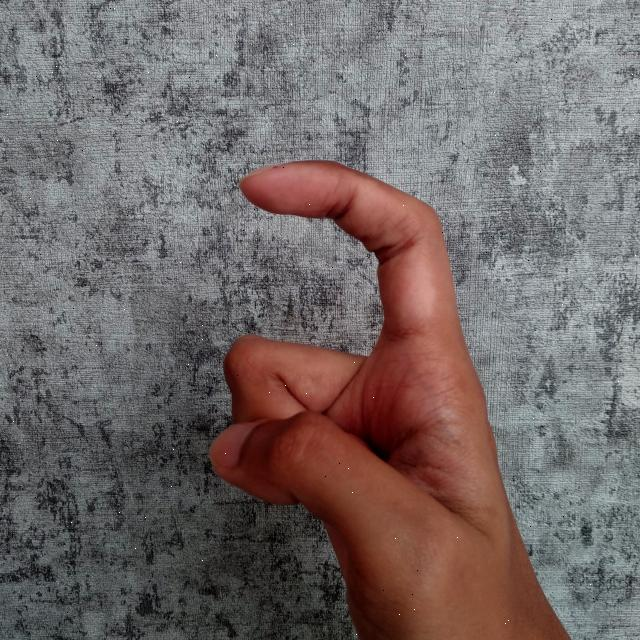X: (196, 155, 578, 640)
